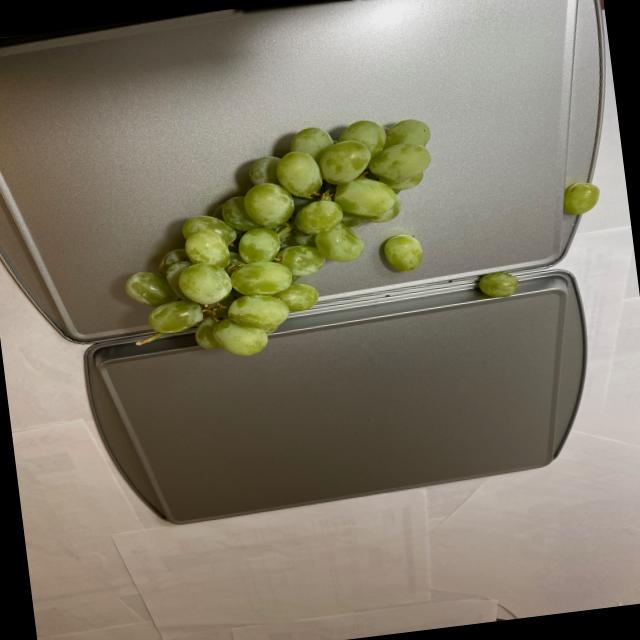grapes: (89, 100, 522, 368), (546, 167, 604, 224)
